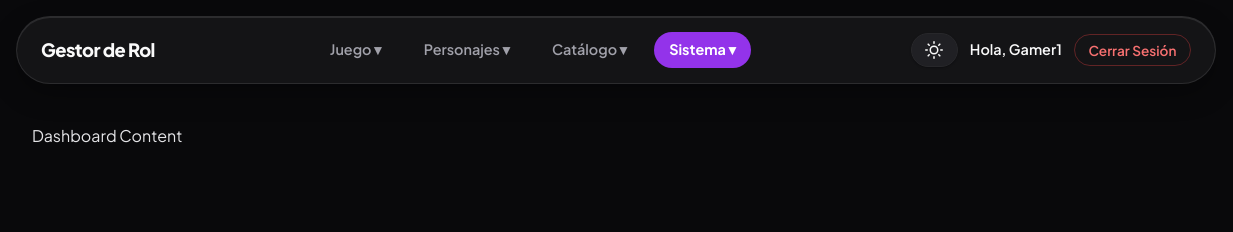
MainLayout › despliega menú interactivo al hacer clic en pestañas del header
Click the button "Juego ▾".
click(356, 49)  # box [330, 40, 381, 58]
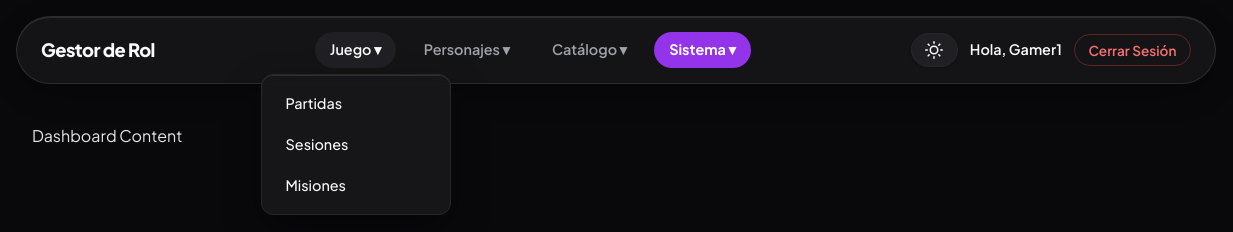
expect the link "Partidas" is shown: met, box [286, 94, 342, 112]
expect the link "Sesiones" is shown: met, box [286, 135, 348, 153]
expect the link "Misiones" is shown: met, box [286, 176, 346, 194]
